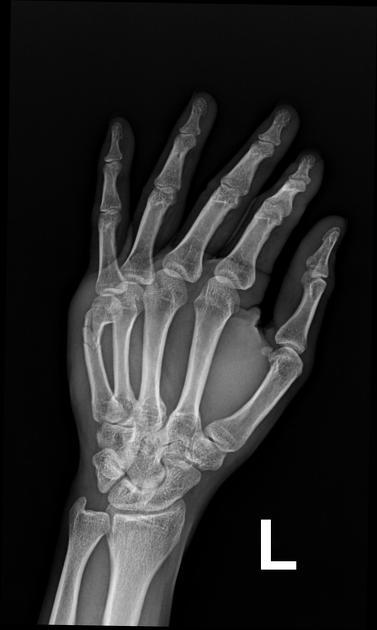fractured: (82, 320, 102, 347)
